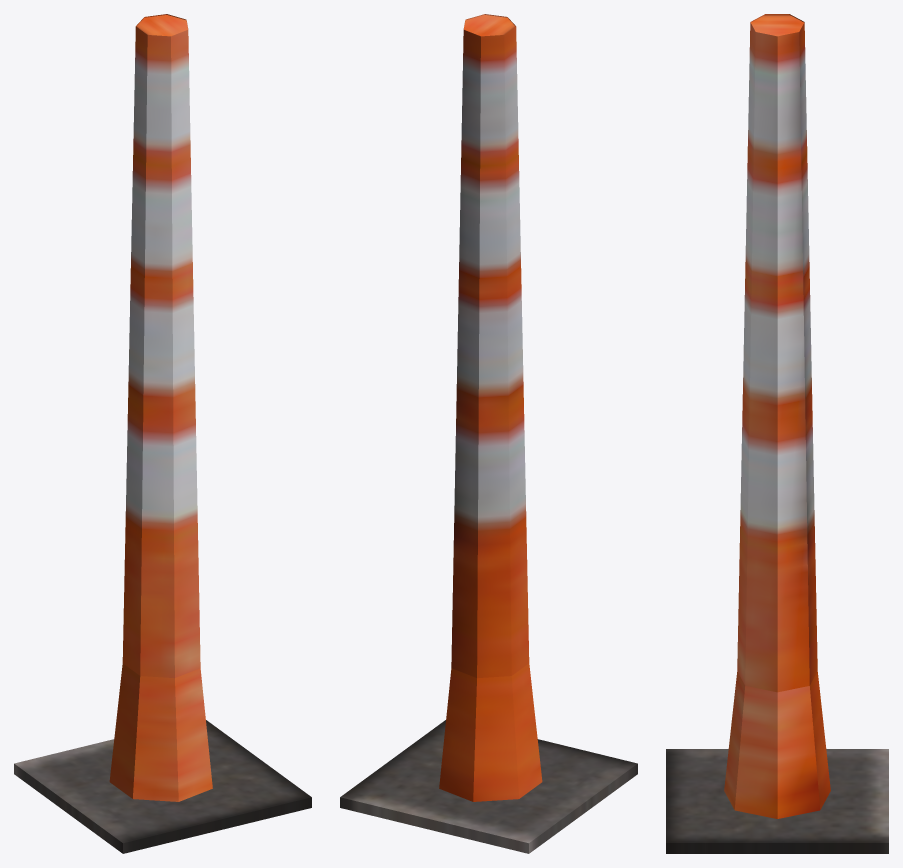
File: D_road_b_01.FBX
3 renders of one model, left to right at view 1: azimuth 30°, elevation 25°; view 2: azimuth 150°, elevation 25°; view 3: azimuth 270°, elevation 25°, orthographic. The views are drawn at different scales.
Parts seen in each view (by area): view 1: D_road_b_01; view 2: D_road_b_01; view 3: D_road_b_01.
Part boxes in pixels (x1,y1,x2,y2): D_road_b_01: [14, 14, 311, 853]; D_road_b_01: [340, 14, 637, 853]; D_road_b_01: [666, 14, 888, 853].
Bounding box in the file's own units: 0.9002 × 0.9 × 3.49.
